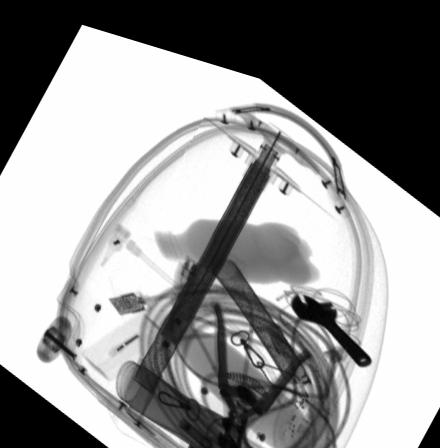Pliers: (210, 287, 310, 444)
Wrench: (290, 275, 371, 345)
